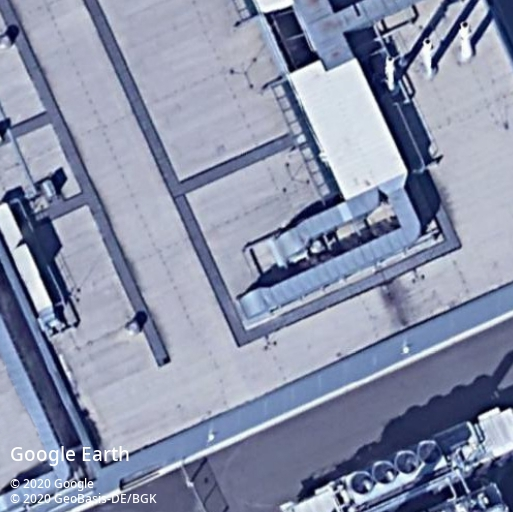Vent: (372, 461, 398, 485), (349, 471, 375, 495), (417, 441, 441, 466), (395, 451, 419, 474)
